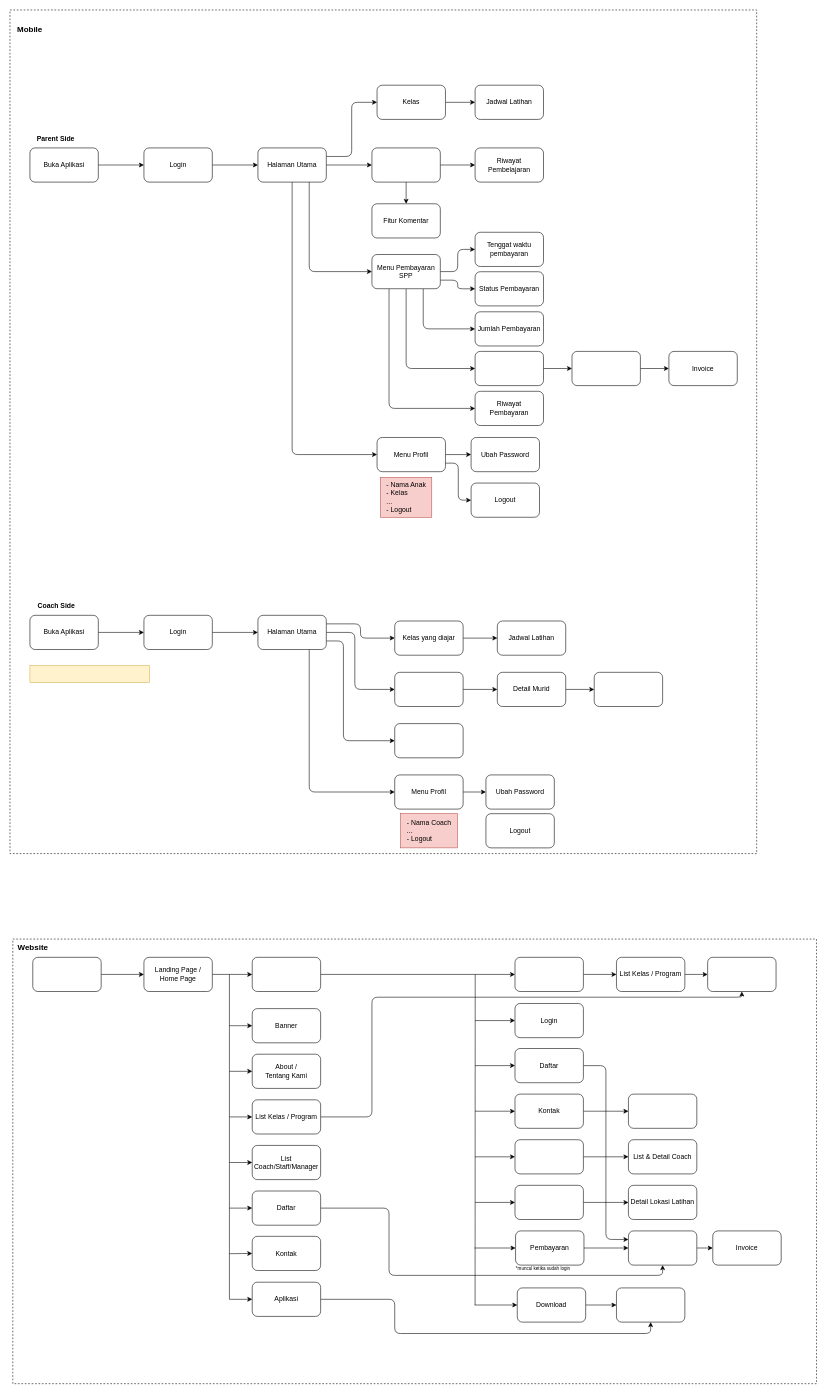
Image size: 827x1394. Some labels were removed from this diagram. The centre of each missing label's shape, as x and y in pixels:
Buka Website: the point at 66,974
Coach / Staff: the point at 548,1156
Daftar Murid: the point at 428,689
Detail Kelas / Program: the point at 741,974
Detail Kontak: the point at 662,1111
Detail Link Google Play / App Store: the point at 650,1304
Detail Pembayaran: the point at 662,1247
Fitur Cari Murid berdasarkan nama: the point at 428,740
Fitur naik kelas mau bagaimana??: the point at 89,674
Fitur Review Materi: the point at 628,689
Kelas / Program: the point at 548,974
Konfirmasi Pembayaran: the point at 605,368
Lanjutkan Pembayaran: the point at 509,368
Lokasi: the point at 548,1202
Menu: the point at 286,974
Review Materi Terakhir: the point at 405,164
